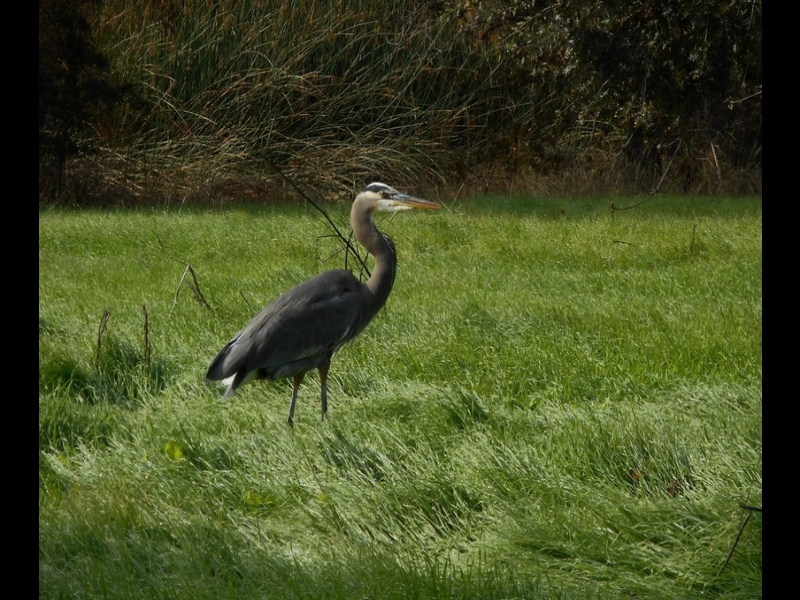heron: (208, 178, 438, 414)
